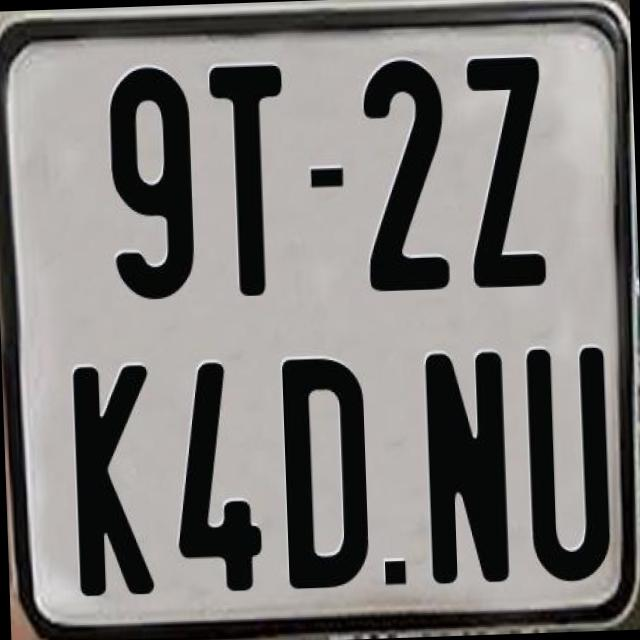2: (361, 55, 448, 288)
4: (170, 356, 266, 590)
9: (106, 65, 196, 308)
D: (277, 354, 366, 586)
K: (72, 364, 163, 604)
N: (420, 346, 510, 580)
T: (208, 62, 294, 300)
U: (524, 344, 612, 578)
Z: (462, 56, 547, 289)
